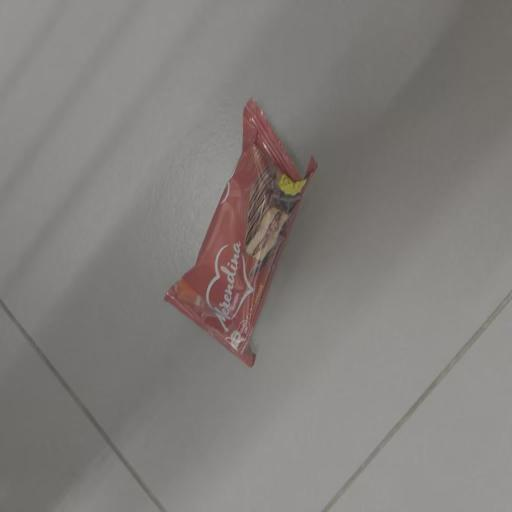merendina: (160, 87, 338, 403)
